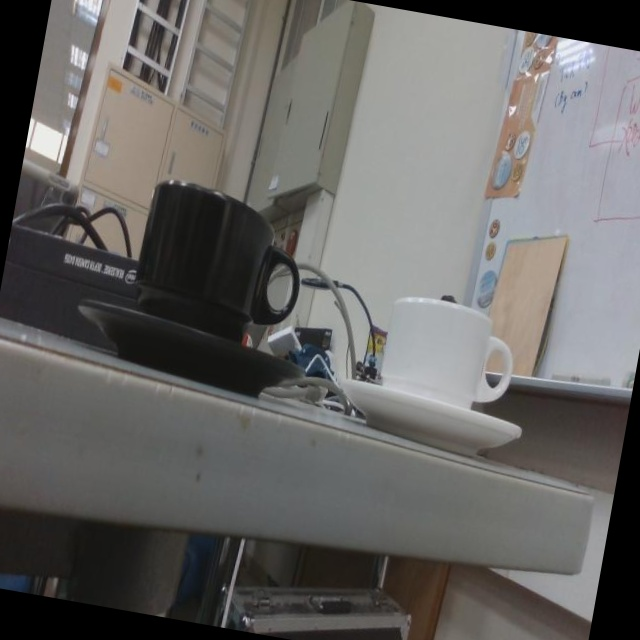black: (80, 182, 324, 391)
white: (339, 295, 533, 453)
